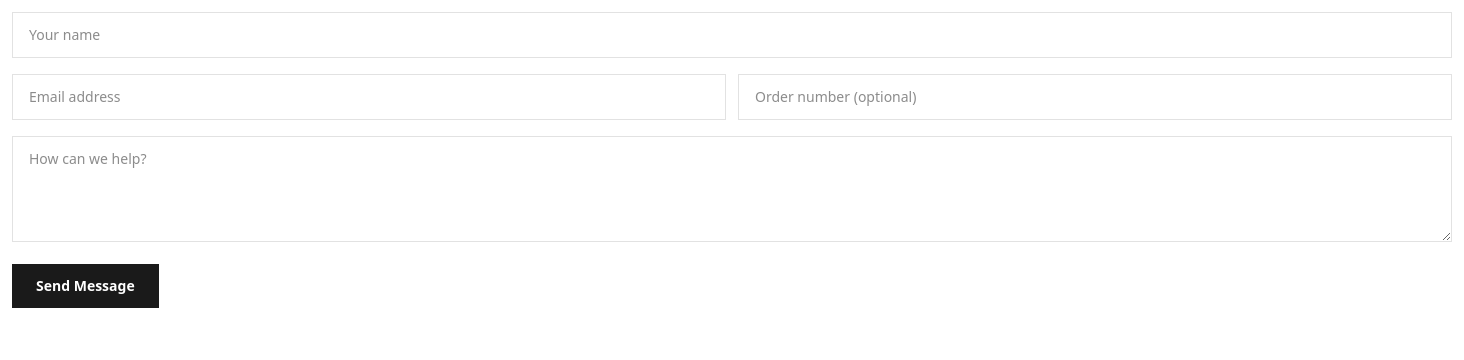
ContactForm › a 500 with the API error shows an error, never success, and keeps the message
The image size is (1464, 360).
Type "Asha" into the field labelled "Your name". click: (732, 35)
box: x1=12 y1=12 x2=1452 y2=58
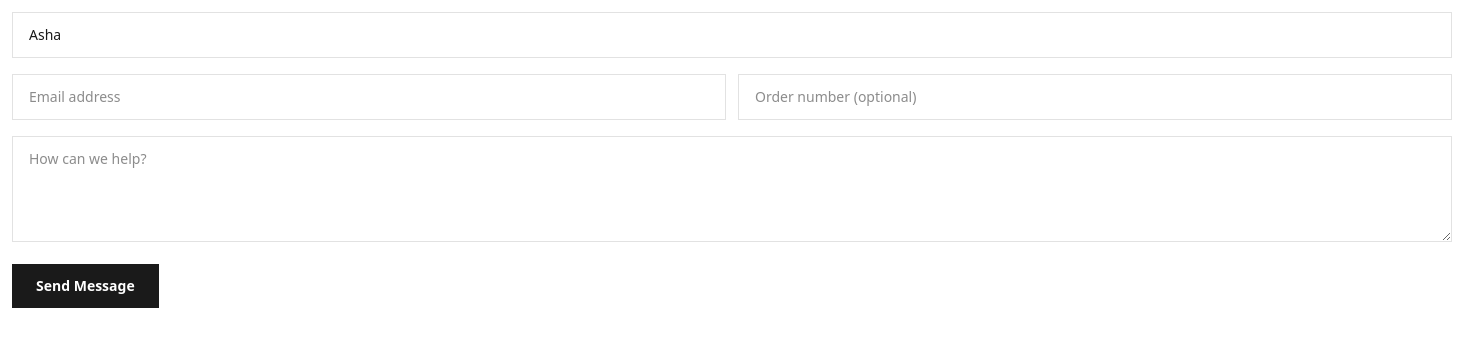
Type "asha@example.com" into the field labelled "Email address". click: (369, 97)
box: x1=12 y1=74 x2=726 y2=120
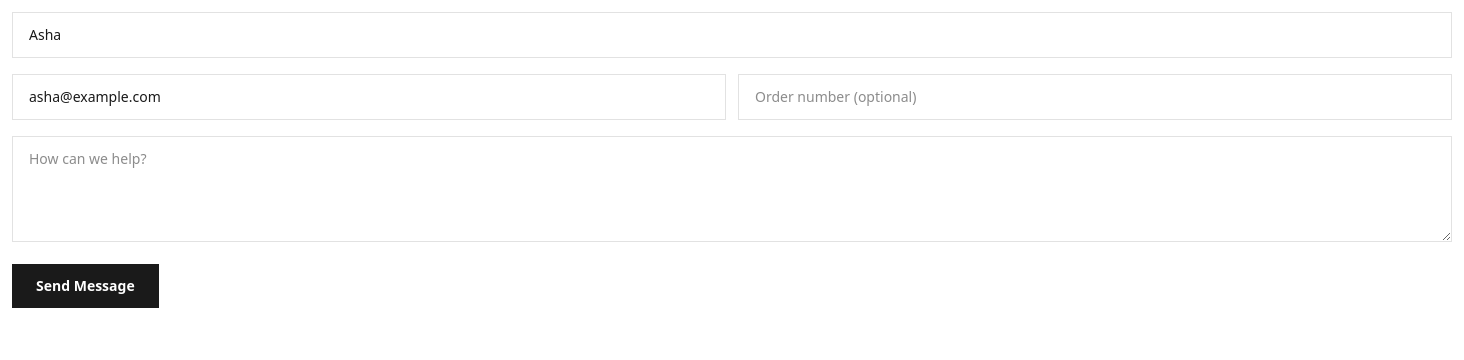
Type "Hello" into the text box labelled "How can we help?". click: (732, 189)
box: x1=12 y1=136 x2=1452 y2=242
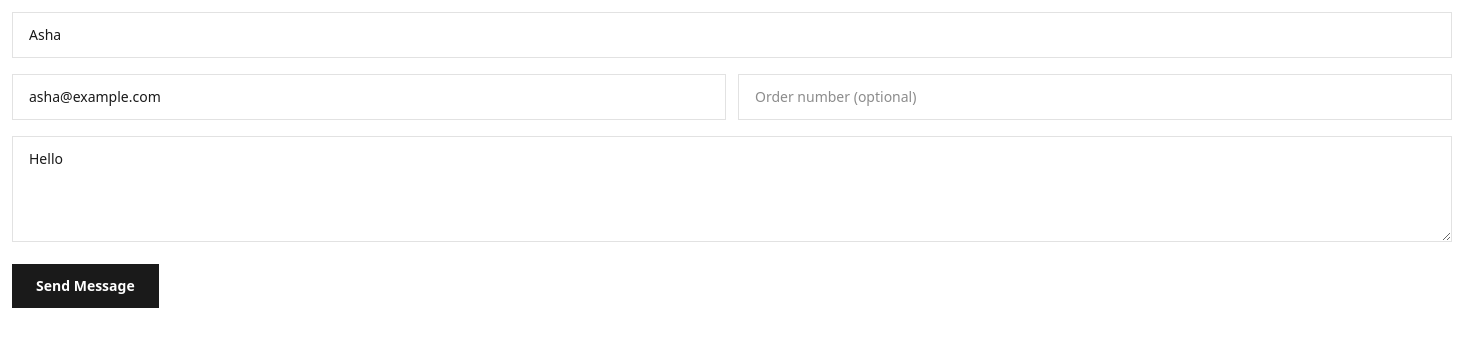
Click the button "Send Message". click: (85, 286)
box: x1=12 y1=264 x2=159 y2=308
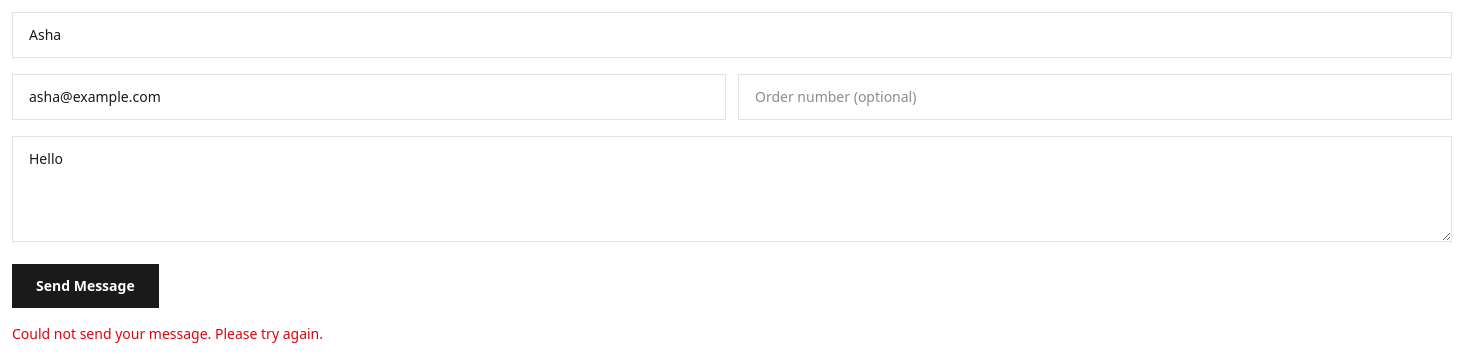
Now the message reads "Could not send your message. Please try again.", box x1=12 y1=324 x2=323 y2=343
